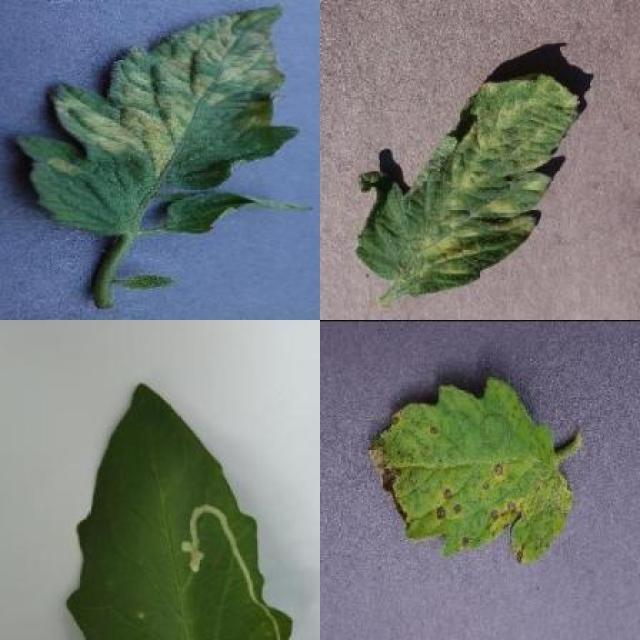Leaf Miner: (60, 381, 296, 640)
Leaf Mold: (15, 5, 299, 238), (356, 74, 583, 296)
Septoria: (366, 376, 571, 560)
